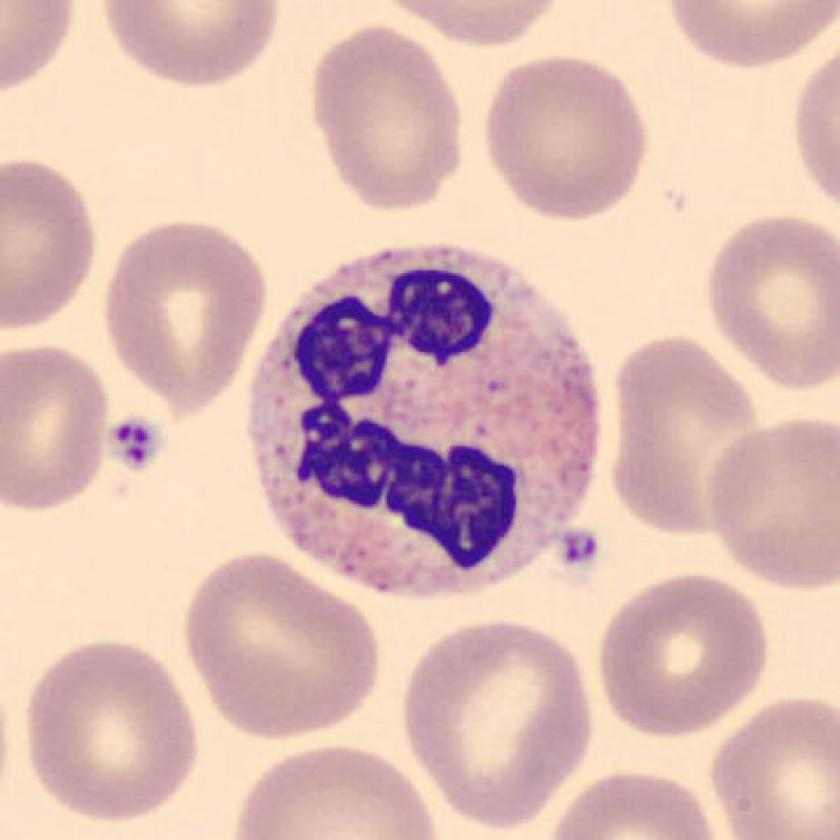neutrophil: (249, 244, 600, 596)
